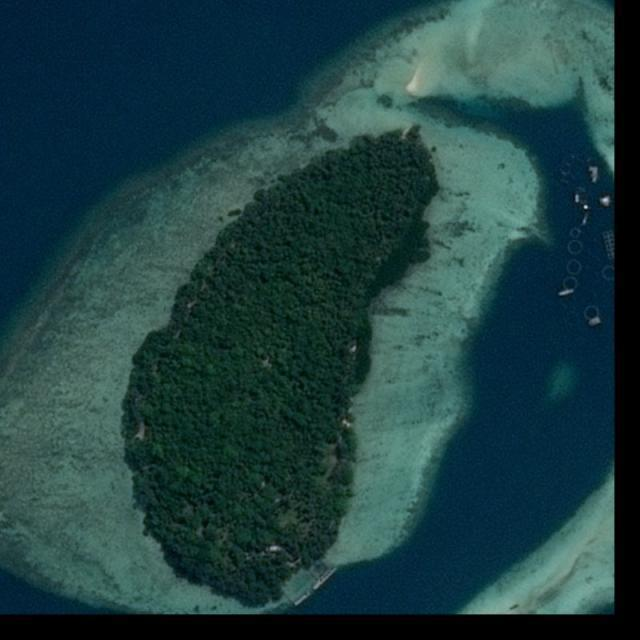ship: (558, 289, 574, 298), (576, 194, 580, 204)
